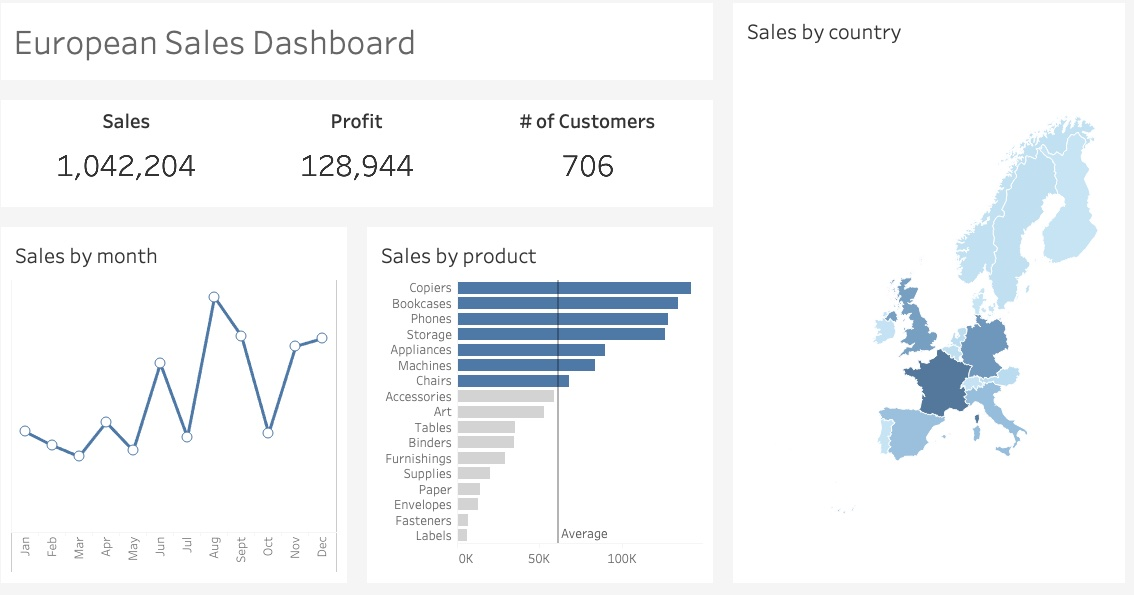

What the dashboard file says about the page in this screenshot:
{"tool":"tableau","page":{"name":"Dashboard 1","canvas":[1200,600],"ordinal":0},"visuals":[{"type":"text","box":[0,0,732,97]},{"type":"worksheet","title":"Sales by country","mark":"Automatic","box":[732,0,412,600]},{"type":"worksheet","title":"KPIs","mark":"Automatic","box":[0,97,732,127]},{"type":"worksheet","title":"Sales by month","mark":"Automatic","rows":["Sales","Sales"],"cols":["Order Date"],"box":[0,224,366,375.9]},{"type":"worksheet","title":"Sales by product","mark":"Automatic","rows":["Sub-Category"],"cols":["Sales"],"box":[366,224,366,375.9]}]}

Visuals, with their boxes on the page's 1200x600 design canvas (x1, y1, x2, y2). These are canvas units, not pixel positions in the 1134x595 screenshot, which may show the page scaled, cropped or inside an application window:
text: box(0, 0, 732, 97)
"Sales by country" worksheet: box(732, 0, 1144, 600)
"KPIs" worksheet: box(0, 97, 732, 224)
"Sales by month" worksheet: box(0, 224, 366, 600)
"Sales by product" worksheet: box(366, 224, 732, 600)
